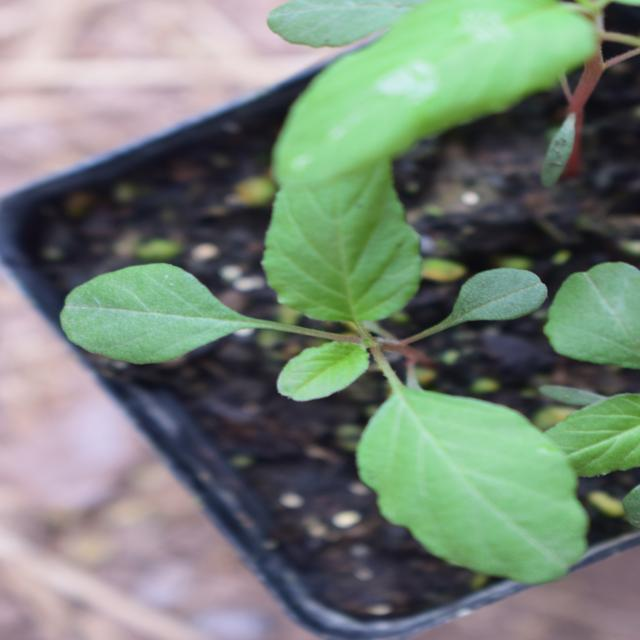pigweed: (70, 65, 479, 579)
